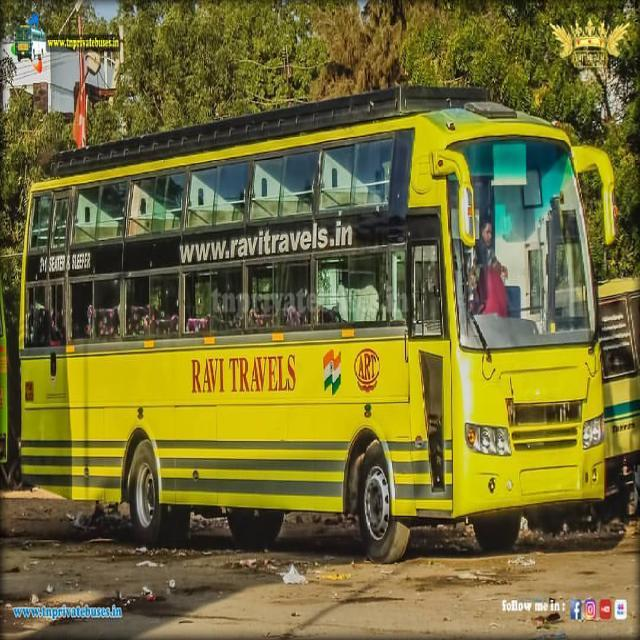Bus: (14, 81, 620, 571)
